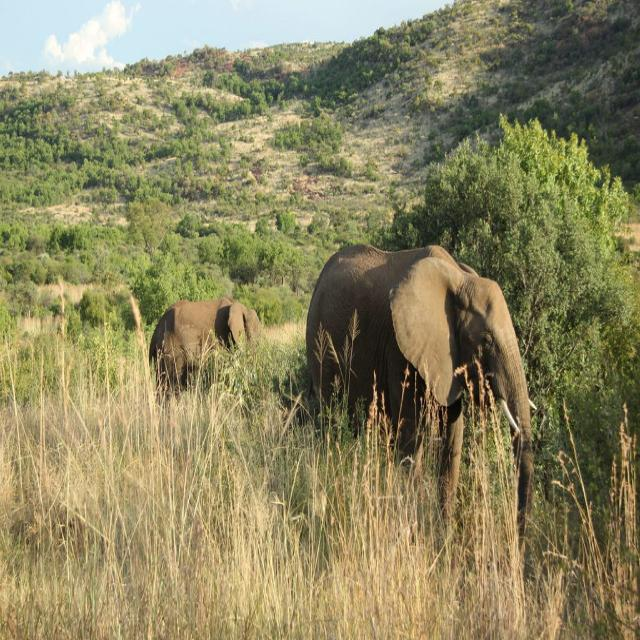elephant: (307, 252, 541, 560), (146, 293, 264, 403)
